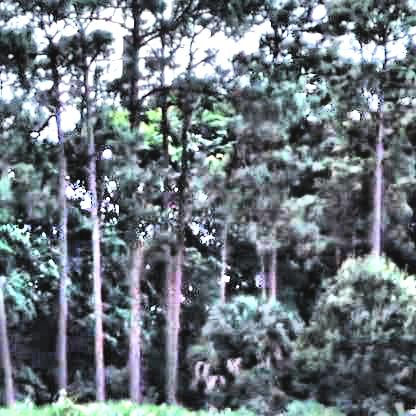golfball: (99, 148, 109, 158)
